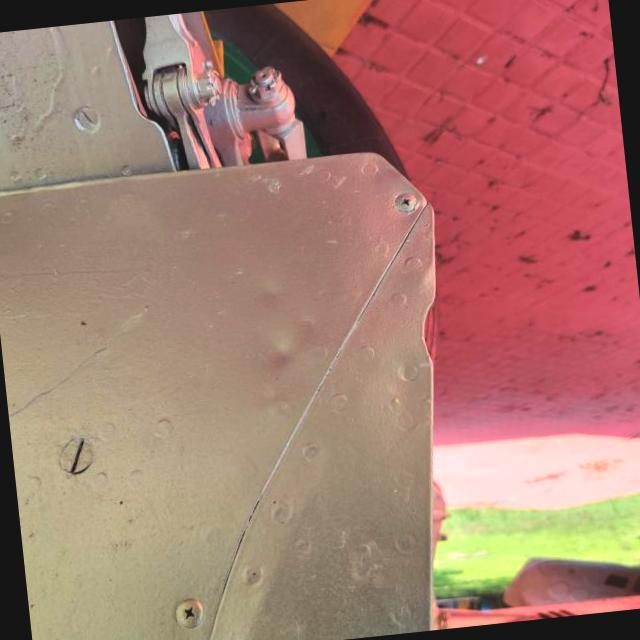dent: (240, 305, 331, 396)
